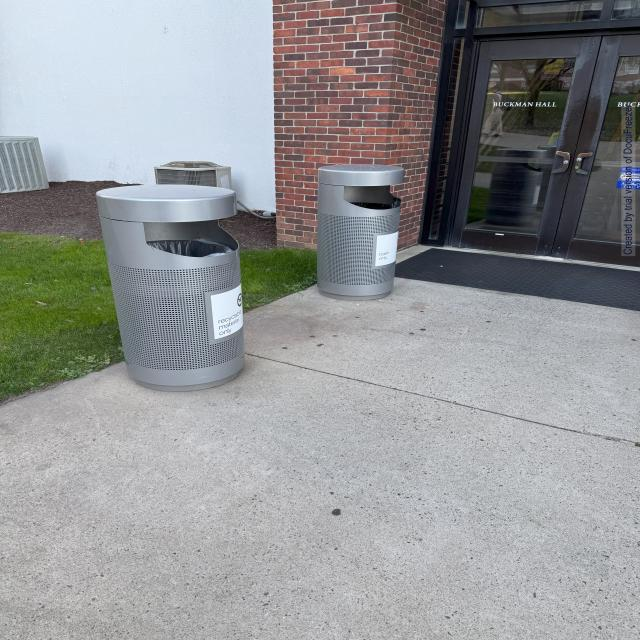Trash bin: (73, 172, 279, 416), (292, 155, 426, 301)
